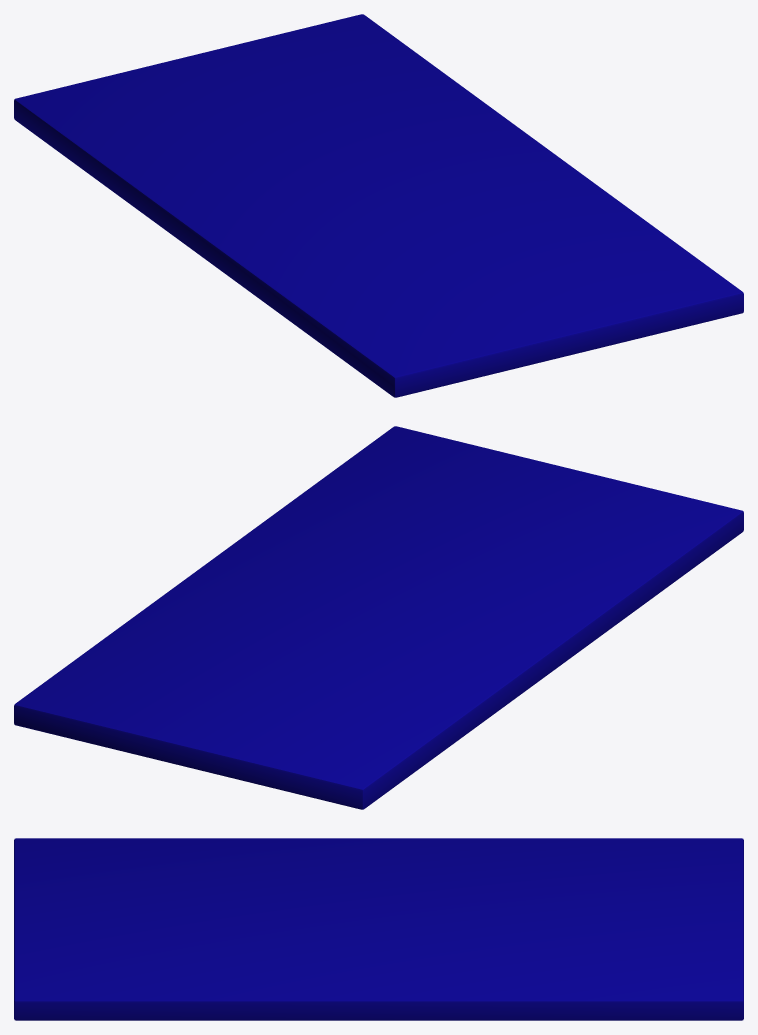
File: TableTop.fbx
The picture shows the model from 3 angles, top to bottom: view 1: azimuth 30°, elevation 25°; view 2: azimuth 150°, elevation 25°; view 3: azimuth 270°, elevation 25°; orthographic projection. The views are drawn at different scales.
Parts seen in each view (by area): view 1: Box010; view 2: Box010; view 3: Box010.
Part boxes in pixels (box(x1,y1,x2,y2)): Box010: box(14, 14, 743, 397); Box010: box(14, 426, 743, 809); Box010: box(14, 838, 743, 1020).
Bounding box in the file's own units: 60.55 × 3.53 × 114.
